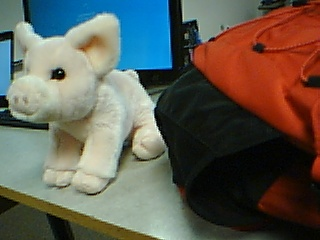piggy: (6, 10, 166, 196)
